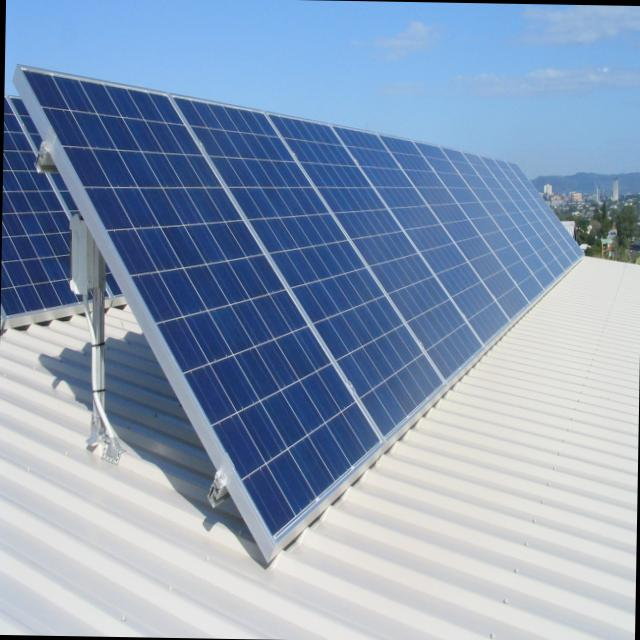no faulty: (22, 73, 578, 542), (4, 108, 52, 326)
